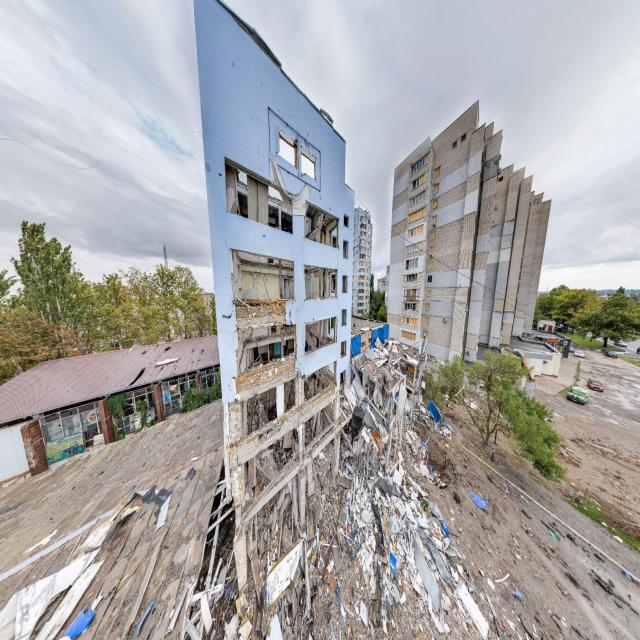building: (386, 98, 552, 370), (0, 334, 220, 484), (352, 206, 372, 319)
